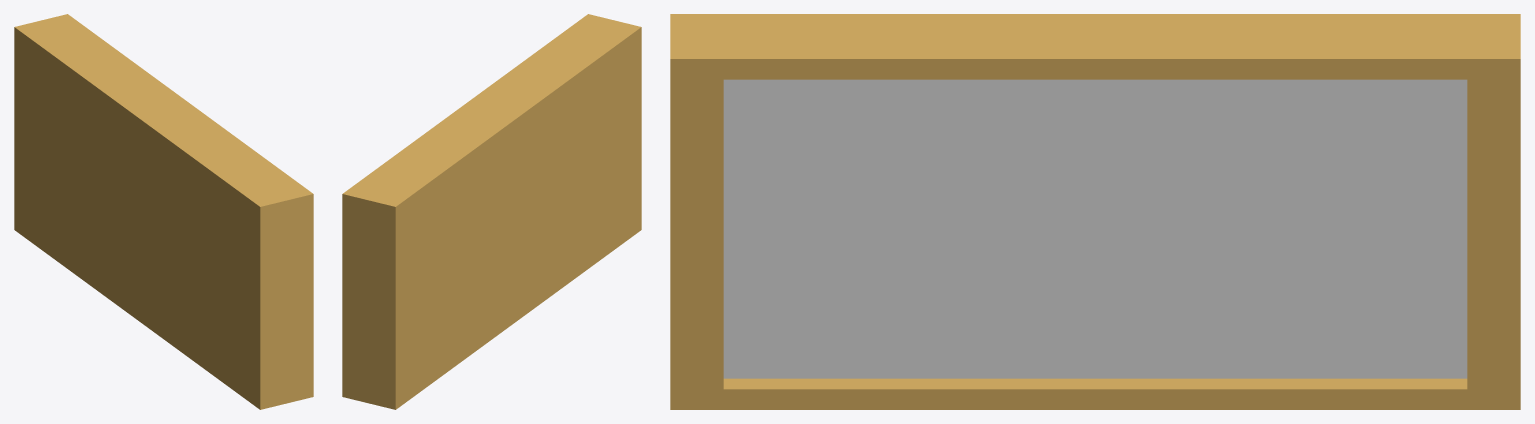
Rendered from Window.4.fbx.
3 renders of one model, left to right at view 1: azimuth 30°, elevation 25°; view 2: azimuth 150°, elevation 25°; view 3: azimuth 270°, elevation 25°, orthographic. The views are drawn at different scales.
Parts seen in each view (by area): view 1: Window.4; view 2: Window.4; view 3: Window.4.
Part boxes in pixels (x1,y1,x2,y2): Window.4: (14,14,313,409); Window.4: (342,14,641,409); Window.4: (670,14,1520,409).
Size of the model in its own units: 0.1212 by 0.4405 by 0.9671.
